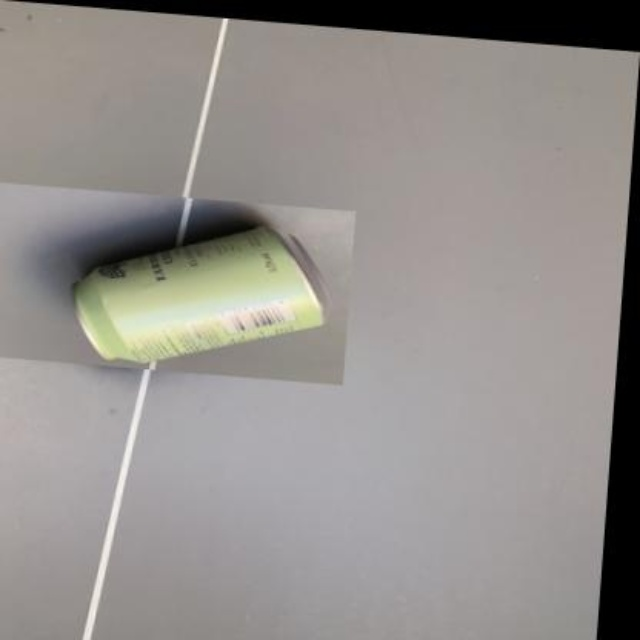trash: (74, 226, 326, 362)
